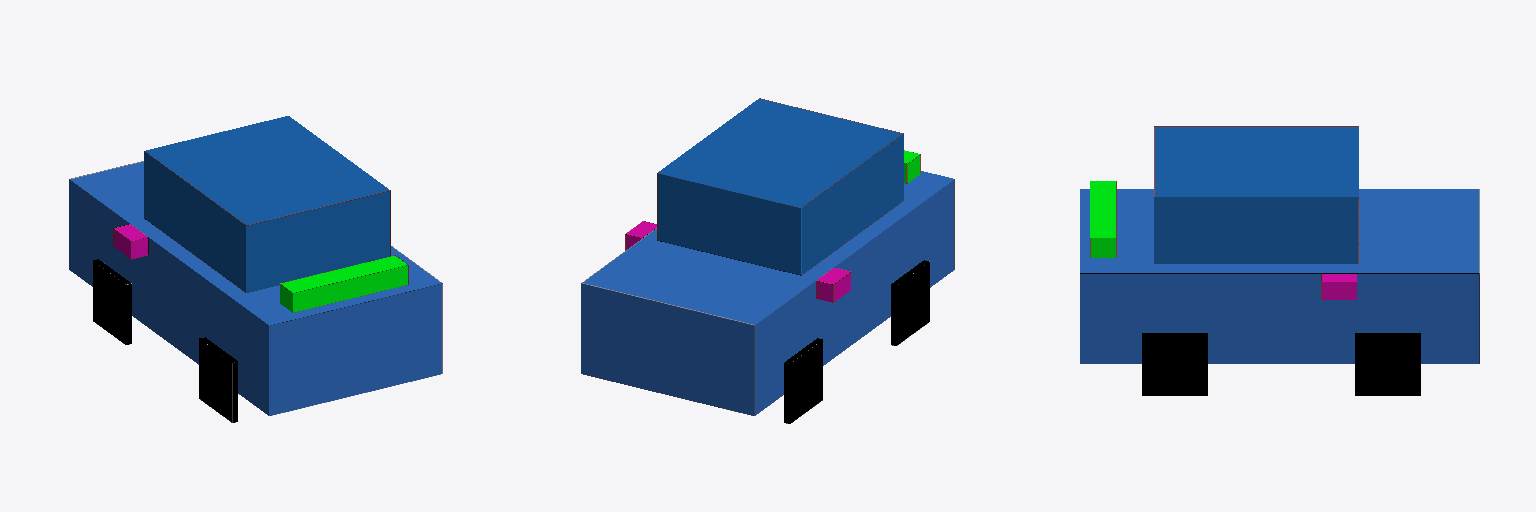
3 renders of one model, left to right at view 1: azimuth 30°, elevation 25°; view 2: azimuth 150°, elevation 25°; view 3: azimuth 270°, elevation 25°, orthographic.
Visible parts, largest first — view 1: Plane, Body.002_Plane.001, Cube; view 2: Plane, Body.002_Plane.001, Cube; view 3: Plane, Body.002_Plane.001, Cube.
Part boxes in pixels (left/top/right/bottom): Plane: left=69, top=161, right=442, bottom=415; Body.002_Plane.001: left=113, top=116, right=408, bottom=312; Cube: left=93, top=259, right=237, bottom=422; Plane: left=581, top=171, right=954, bottom=415; Body.002_Plane.001: left=625, top=98, right=920, bottom=302; Cube: left=784, top=260, right=929, bottom=423; Plane: left=1080, top=189, right=1479, bottom=363; Body.002_Plane.001: left=1090, top=126, right=1358, bottom=299; Cube: left=1142, top=333, right=1420, bottom=395.
Bounding box in the file's own units: 7.2 × 6.22 × 12.
3 materials, 3 textured.